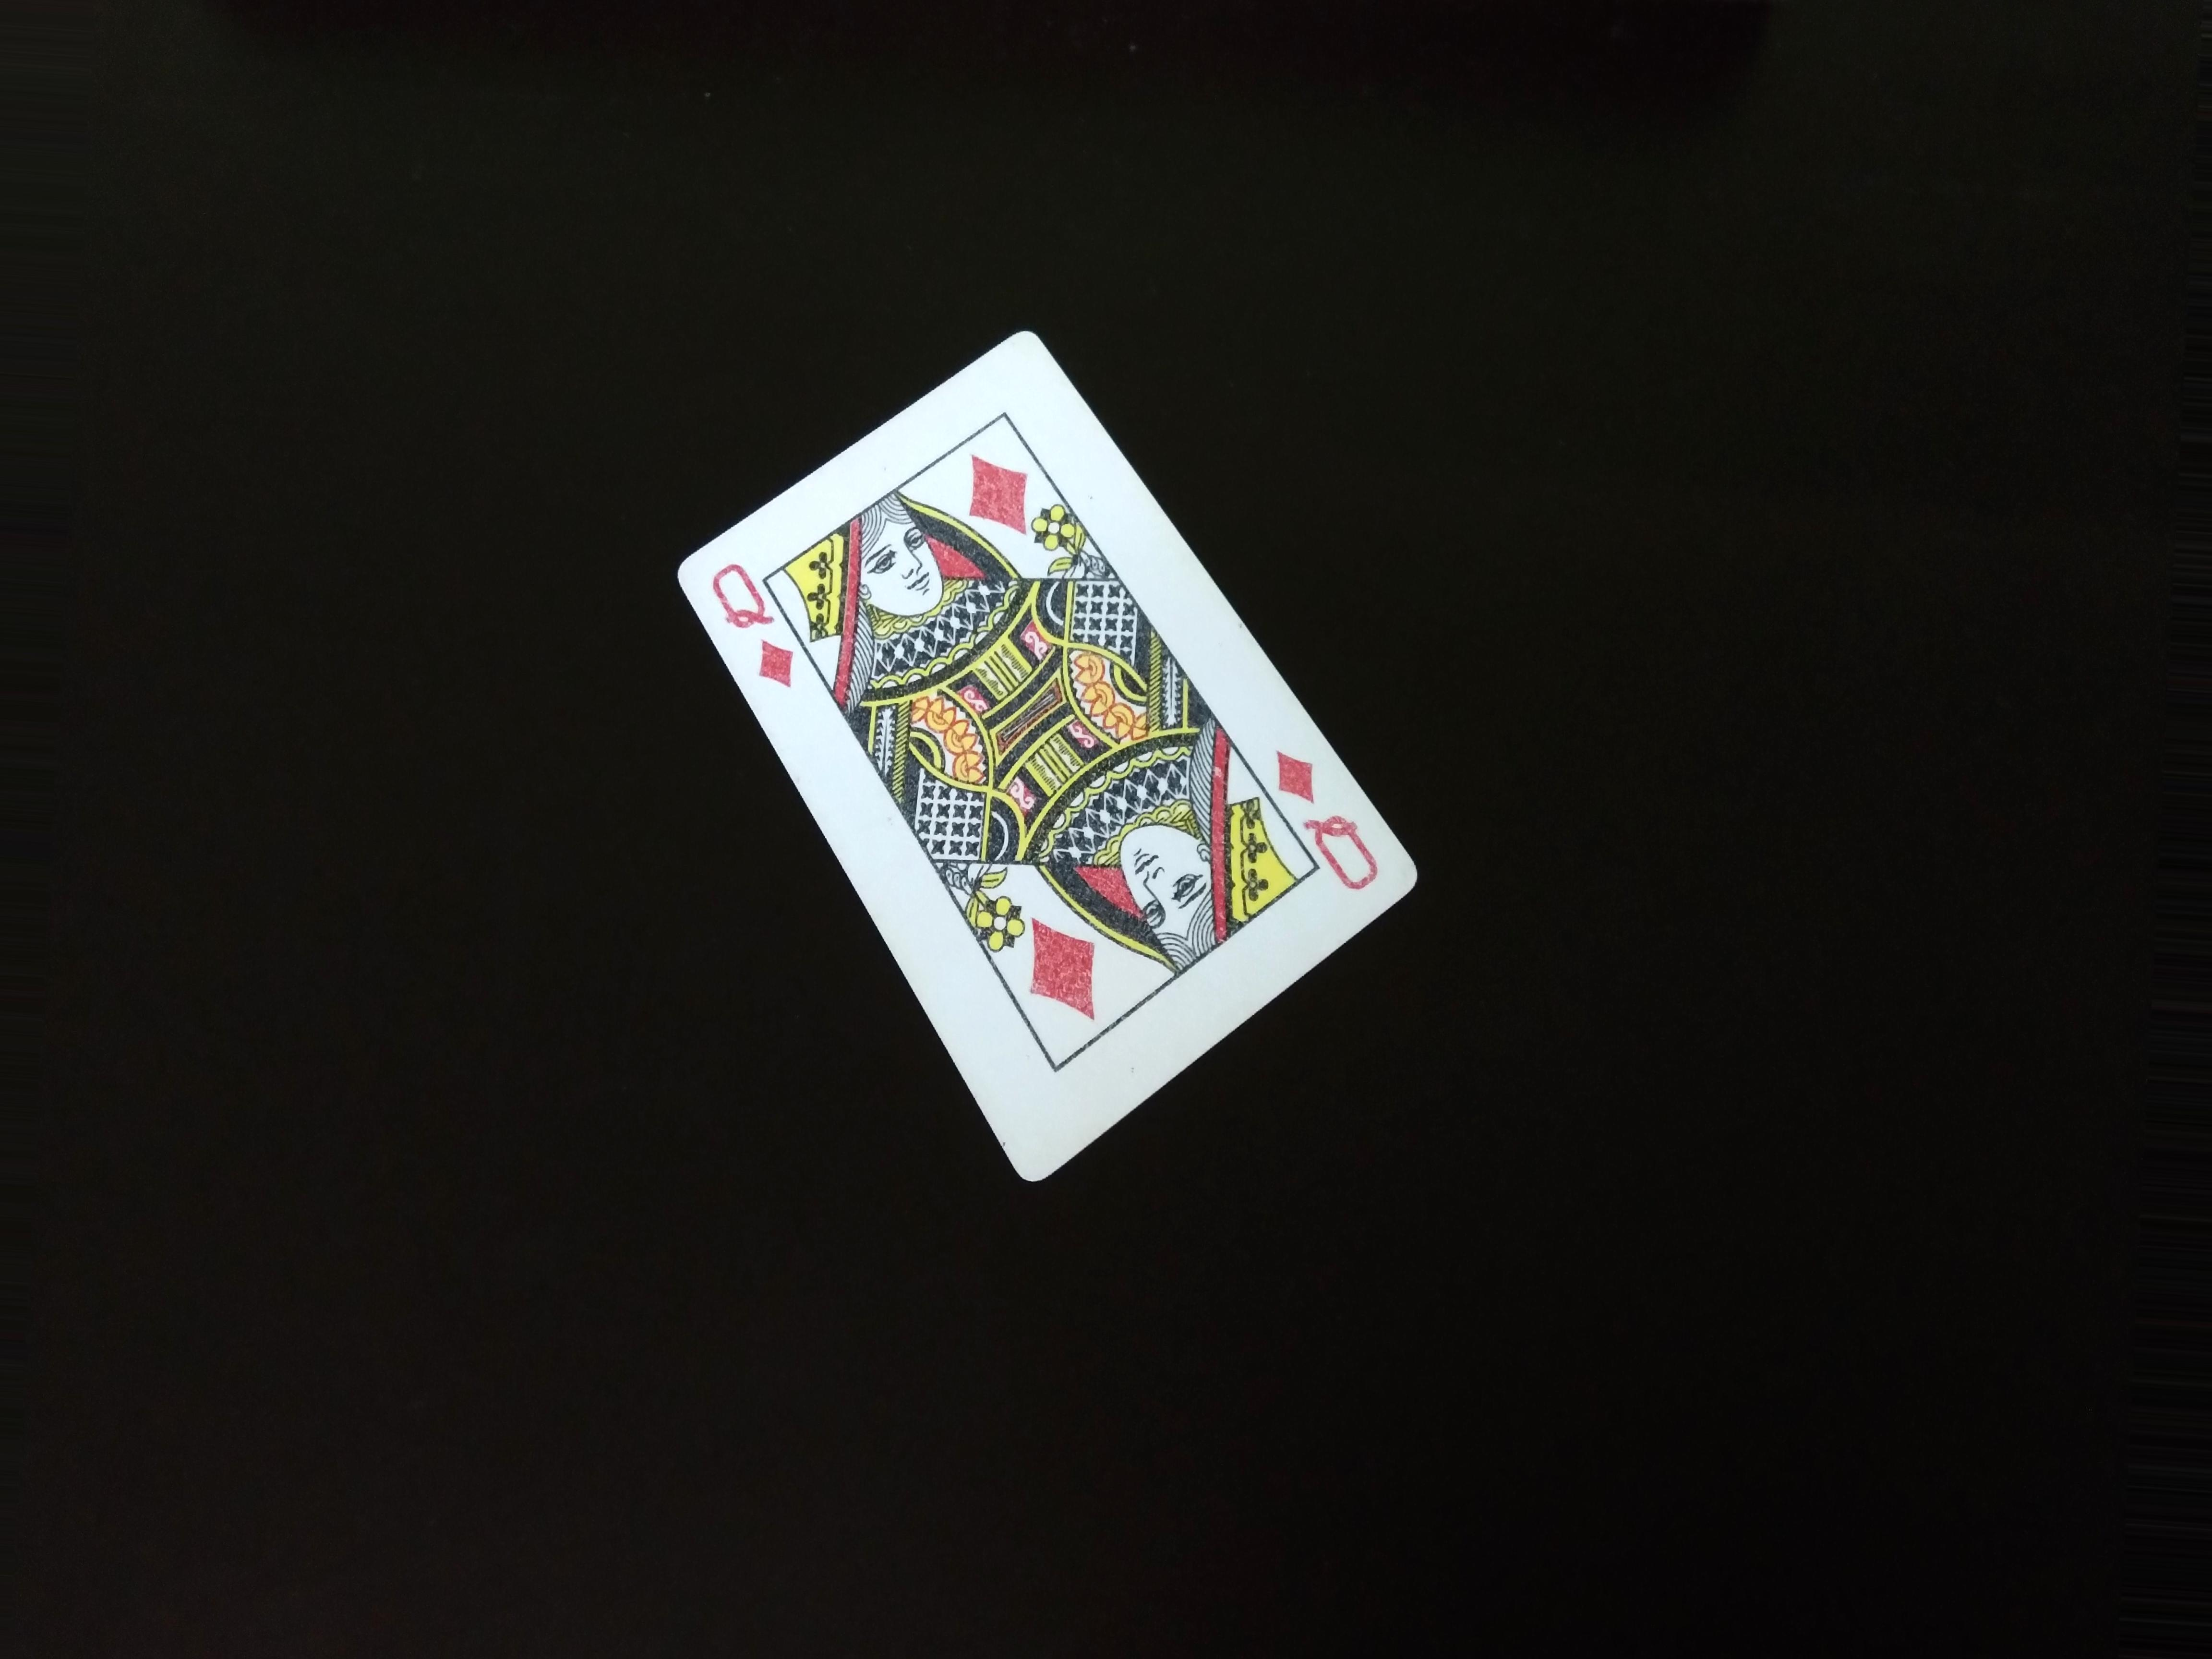QD: (714, 563, 801, 683)
